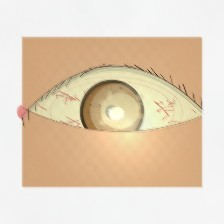corneal_ulcer: (89, 86, 151, 136)
